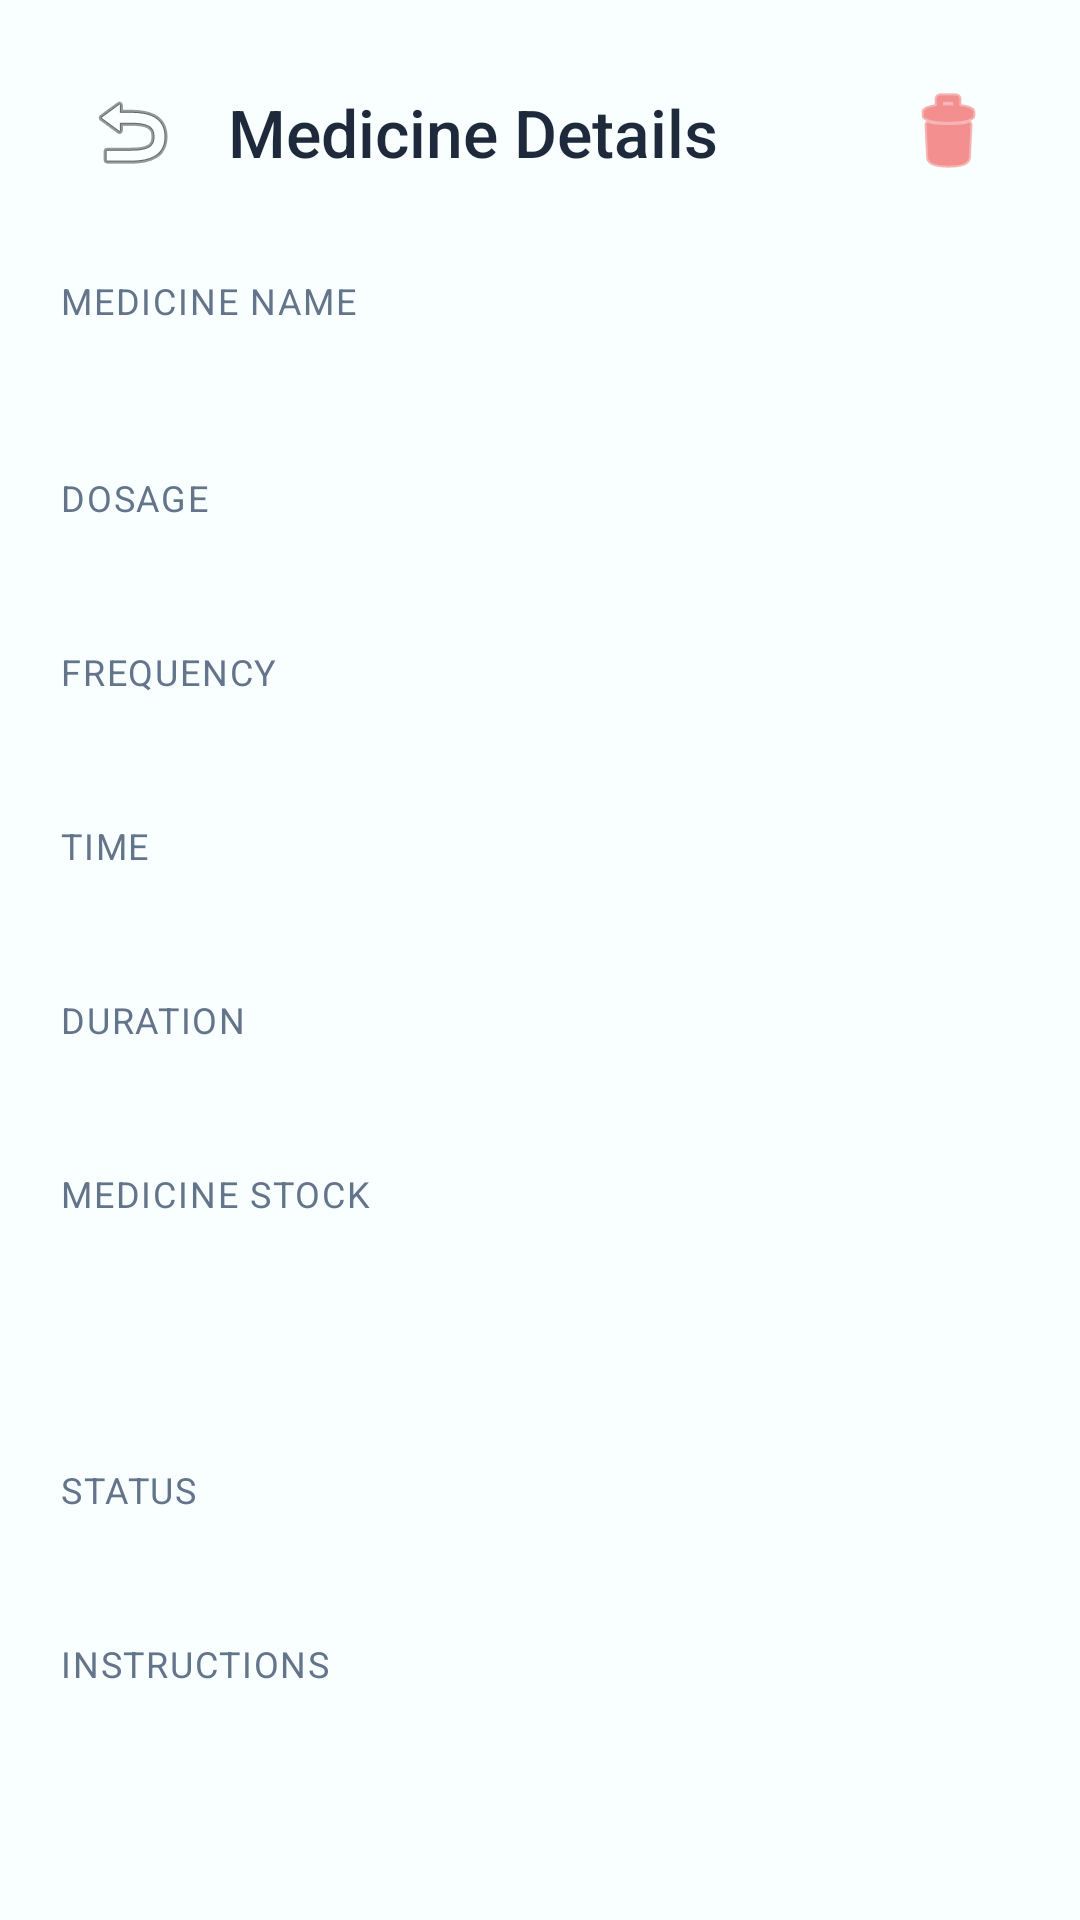

Icons on this 1080w x 1920h Android screen, each with the point to tap as (x=x, y=y):
Back: (x=133, y=132)
Delete: (x=948, y=130)
